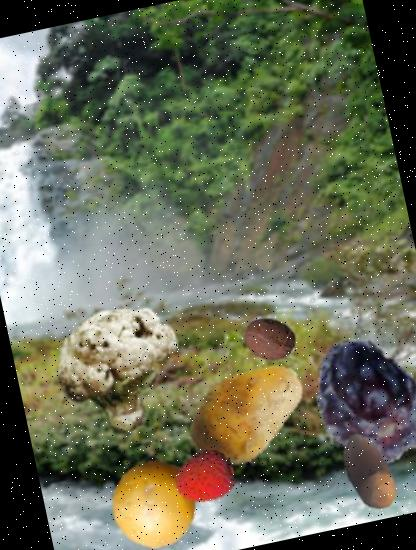Cauliflower: (44, 291, 200, 446)
Cocos: (238, 308, 302, 372)
Dates: (291, 324, 416, 481)
Grapefruit: (101, 451, 207, 550)
Hazelnut: (318, 422, 416, 522)
Lychee: (167, 442, 240, 514)
Potato: (170, 337, 318, 485)
